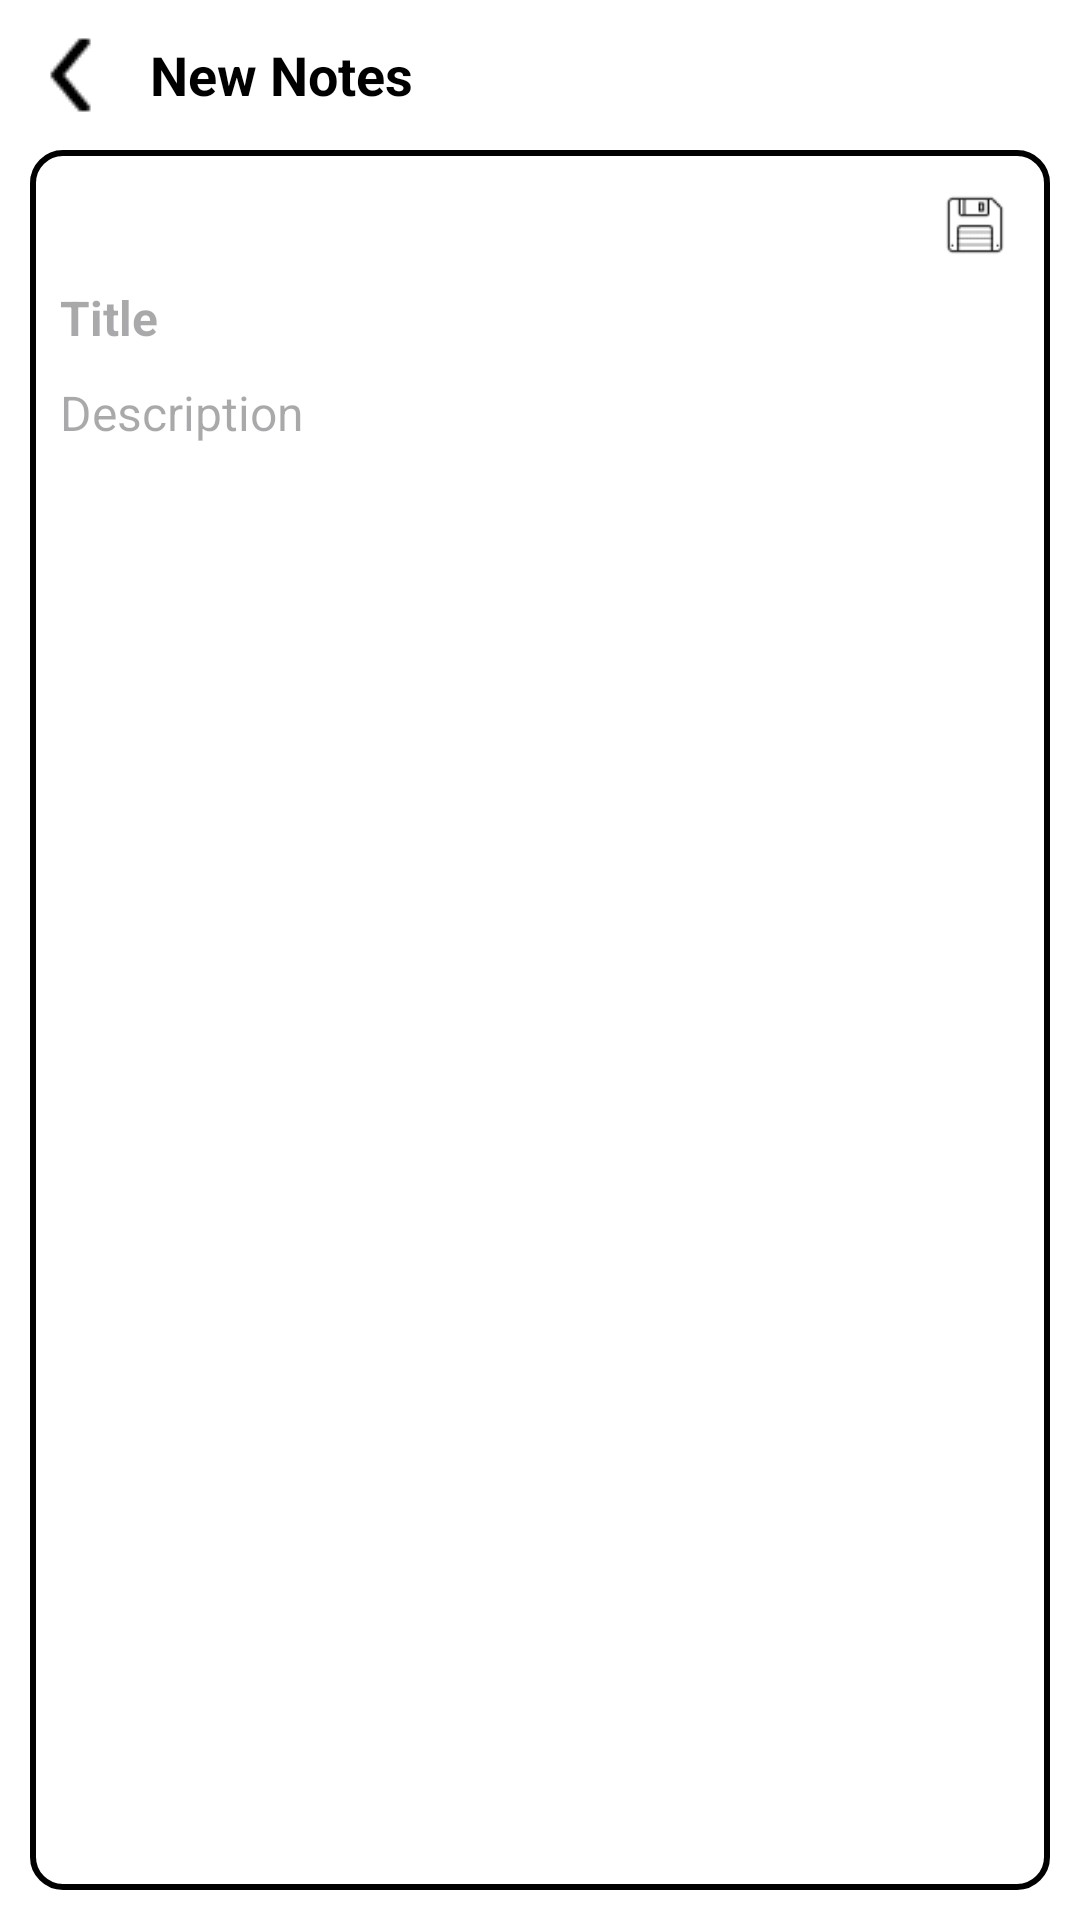

Icons on this 1080px x 1920px Android screen, each with its box as (x1, y1, x2, y2):
backarrow: (50, 38, 91, 112)
save: (947, 197, 1003, 253)
